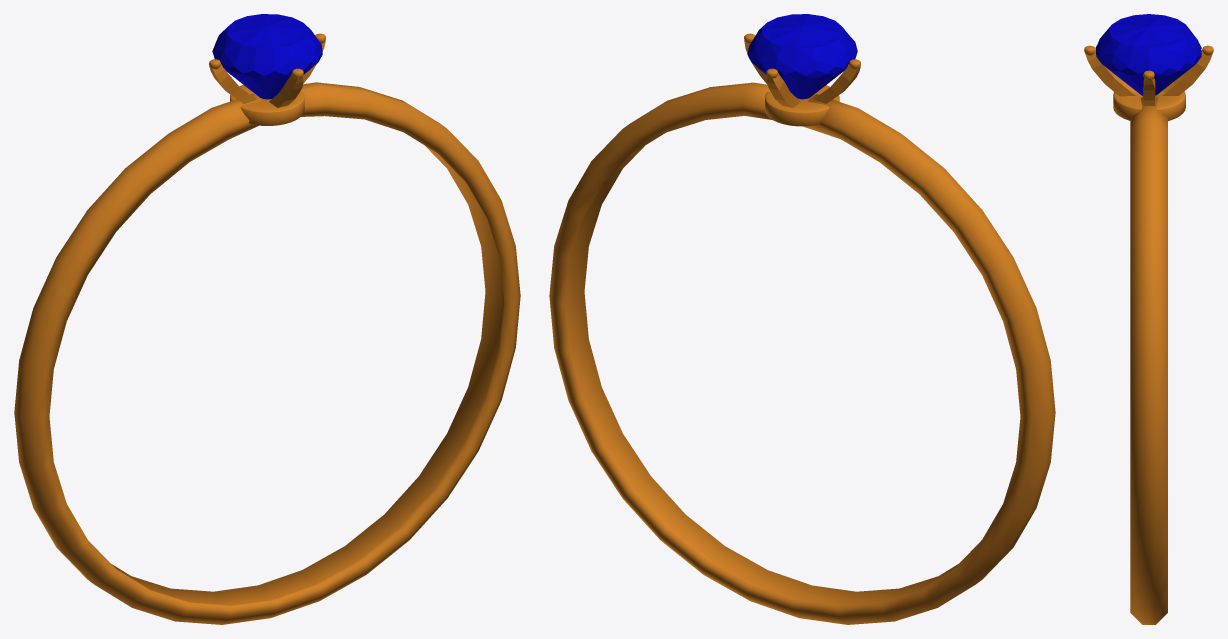
The model's file is bracelet.obj.
3 views of the same model, side by side, from view 1: azimuth 30°, elevation 25°; view 2: azimuth 150°, elevation 25°; view 3: azimuth 270°, elevation 25° (orthographic). The views are drawn at different scales.
Visible parts, largest first — view 1: Bracelet, Sapphire, Holder, Connector; view 2: Bracelet, Sapphire, Holder, Connector; view 3: Bracelet, Sapphire, Holder, Connector.
Part boxes in pixels (<box>): Bracelet: <box>14,82,520,624</box>; Sapphire: <box>212,14,322,99</box>; Holder: <box>209,33,325,107</box>; Connector: <box>230,84,304,125</box>; Bracelet: <box>549,82,1055,624</box>; Sapphire: <box>747,14,857,99</box>; Holder: <box>744,33,860,107</box>; Connector: <box>765,85,839,126</box>; Bracelet: <box>1130,96,1168,624</box>; Sapphire: <box>1095,14,1201,95</box>; Holder: <box>1084,45,1213,105</box>; Connector: <box>1113,91,1185,120</box>.
Bounding box in the file's own units: 10.22 × 11.53 × 2.37.
